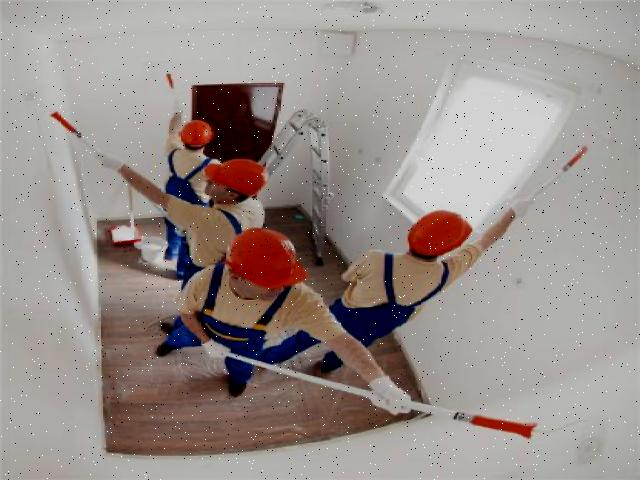Helmet: (218, 224, 311, 293), (403, 206, 475, 258), (200, 152, 266, 199), (175, 117, 215, 148)
